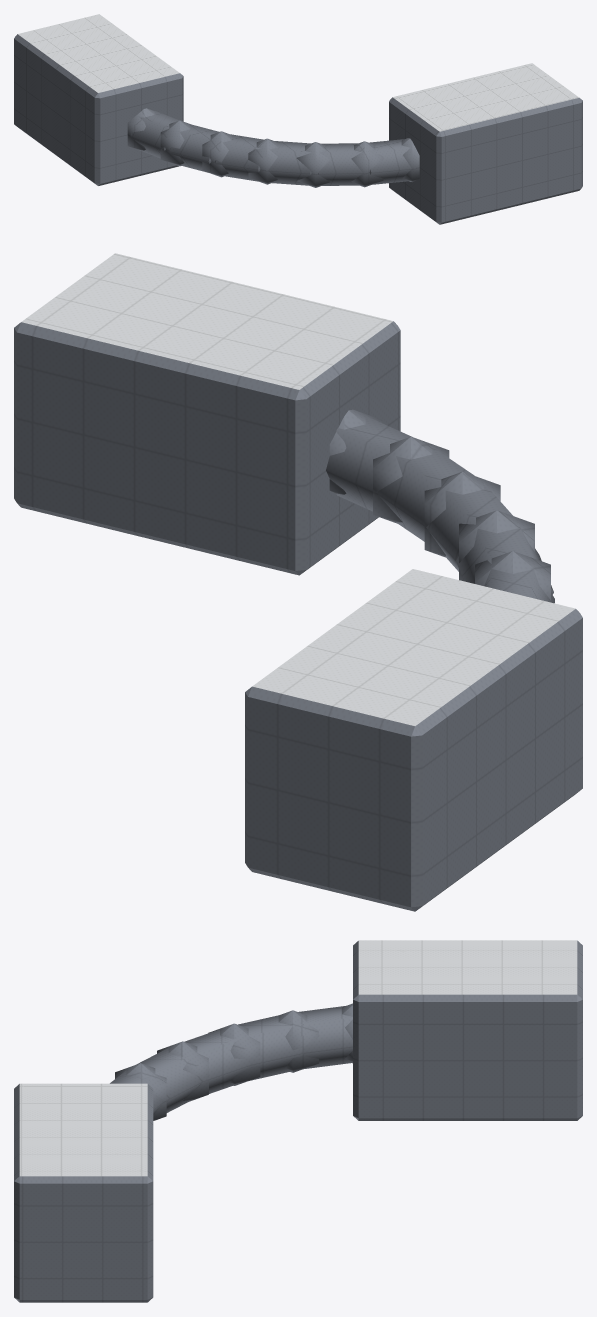
File: R4C_ROD_ARC_SHORT_LOD1.glb
The picture shows the model from 3 angles, top to bottom: view 1: azimuth 30°, elevation 25°; view 2: azimuth 150°, elevation 25°; view 3: azimuth 270°, elevation 25°; orthographic projection. The views are drawn at different scales.
Parts seen in each view (by area): view 1: R4C_ROD_ARC_SHORT_LOD1; view 2: R4C_ROD_ARC_SHORT_LOD1; view 3: R4C_ROD_ARC_SHORT_LOD1.
Part boxes in pixels (bbox=[...]): R4C_ROD_ARC_SHORT_LOD1: bbox=[14, 14, 582, 224]; R4C_ROD_ARC_SHORT_LOD1: bbox=[14, 253, 582, 911]; R4C_ROD_ARC_SHORT_LOD1: bbox=[14, 940, 582, 1302].
Bounding box in the file's own units: 0.923 × 0.226 × 0.923.
2 materials, 2 textured.
